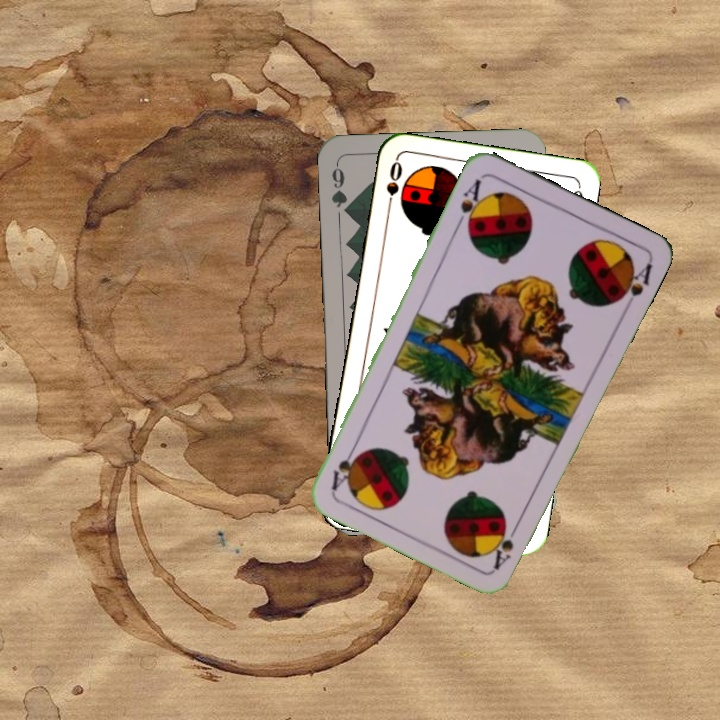G9: (328, 160, 353, 219)
SA: (453, 175, 487, 233), (488, 516, 523, 572)
SO: (382, 157, 405, 216)
